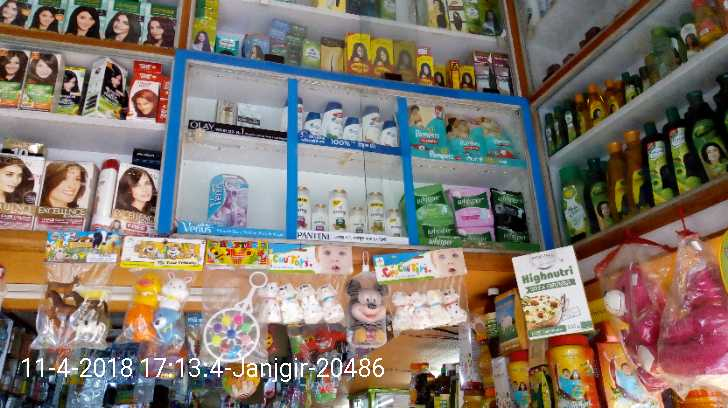venus: (210, 173, 247, 224)
